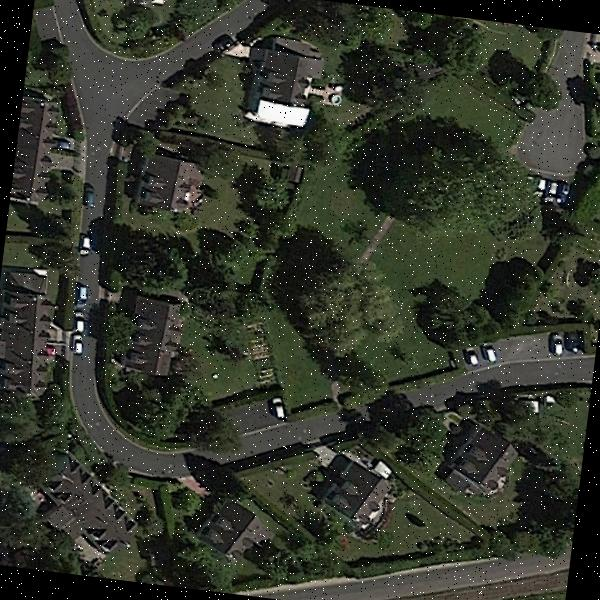Buildings: (0, 273, 62, 395), (10, 89, 62, 204), (54, 475, 126, 554), (118, 298, 186, 377), (260, 35, 324, 113), (322, 459, 386, 524), (137, 159, 202, 214), (456, 436, 508, 484), (210, 510, 259, 556), (114, 0, 164, 9)
